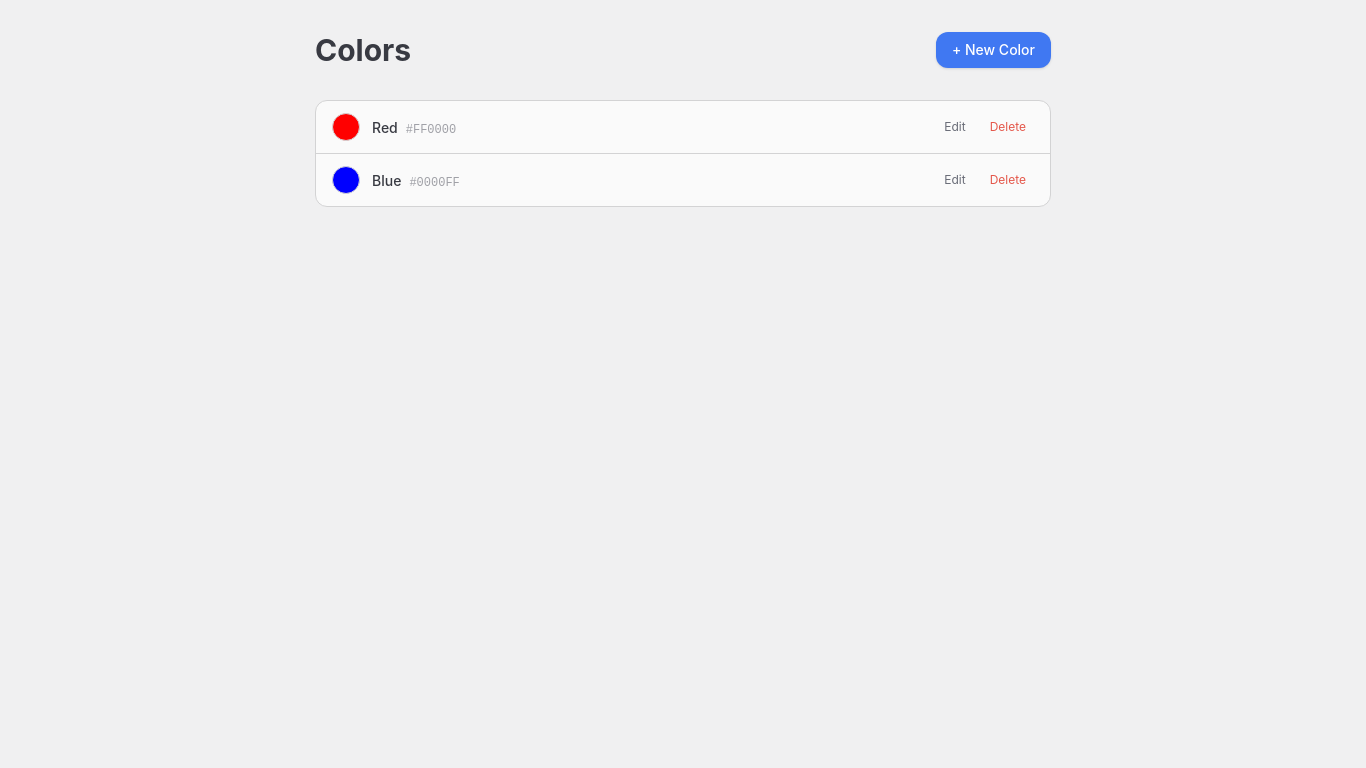
Test case: ColorsPage › edit color › opens the edit modal pre-filled when Edit is clicked
This screenshot has width=1366, height=768.
expect the text "Red" is shown: met, box [372,119,398,136]
What coordinates should you click on to do the following:
click the button "Edit" in the row of "#FF0000"
I would click on:
 (955, 127)
Its box is [936,115,974,139].
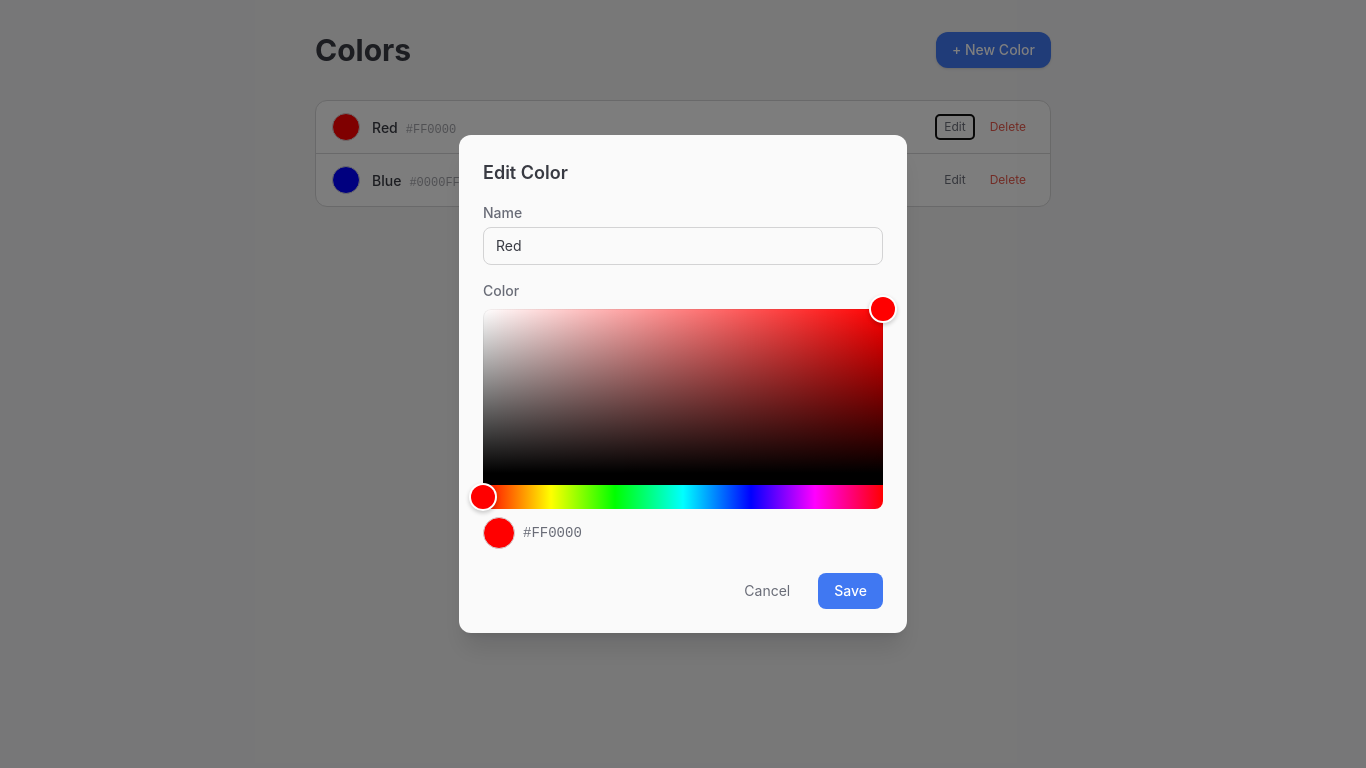
expect the heading "Edit Color" is shown: met, box [483,162,568,183]
expect the field showing "Red" is shown: met, box [483,227,883,265]
